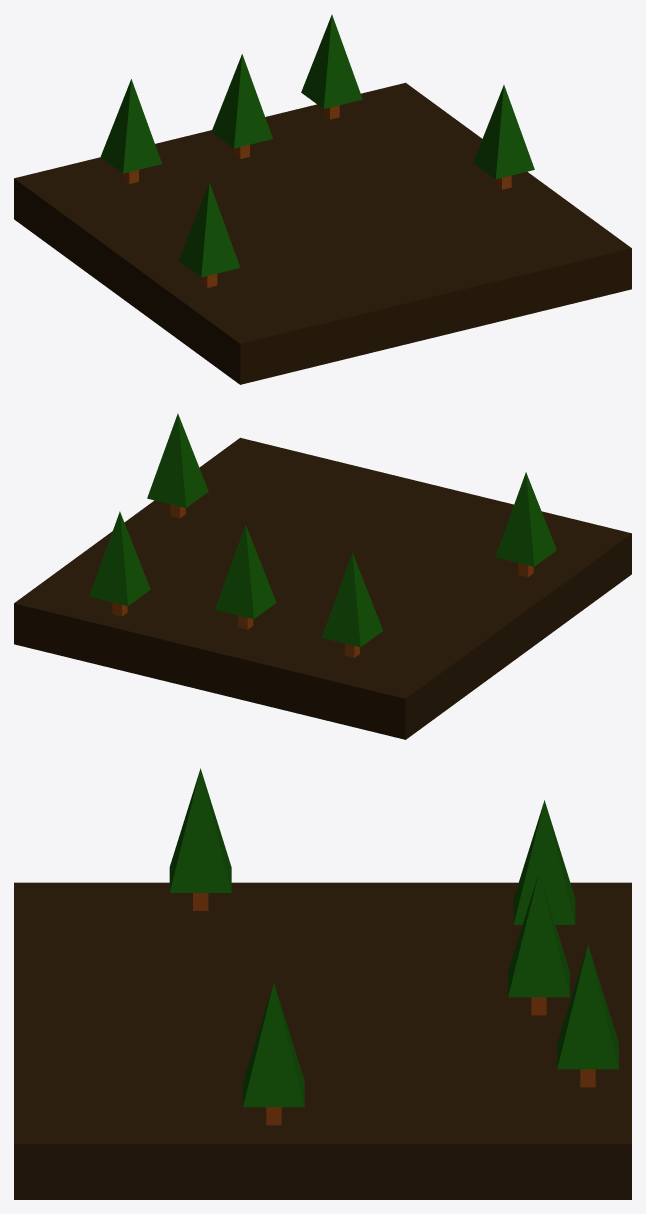
Rendered from Forest1.obj.
The picture shows the model from 3 angles, top to bottom: view 1: azimuth 30°, elevation 25°; view 2: azimuth 150°, elevation 25°; view 3: azimuth 270°, elevation 25°; orthographic projection. The views are drawn at different scales.
Visible parts, largest first — view 1: Tilebase147, Pyramid506, Pyramid501, Pyramid503, Pyramid505, Pyramid499; view 2: Tilebase147, Pyramid499, Pyramid501, Pyramid503, Pyramid505, Pyramid506; view 3: Tilebase147, Pyramid505, Pyramid503, Pyramid499, Pyramid506, Pyramid501.
Boxes of the visible parts, x1,y1,x2,y2 form: Tilebase147: (14,82,631,384); Pyramid506: (178,183,240,277); Pyramid501: (100,79,161,173); Pyramid503: (473,85,534,179); Pyramid505: (301,14,362,108); Pyramid499: (211,54,272,148); Tilebase147: (14,437,631,739); Pyramid499: (215,524,276,619); Pyramid501: (321,553,383,647); Pyramid503: (147,413,208,507); Pyramid505: (89,511,150,605); Pyramid506: (495,472,556,566); Tilebase147: (14,882,631,1199); Pyramid505: (557,944,618,1069); Pyramid503: (243,982,304,1107); Pyramid499: (508,873,569,997); Pyramid506: (169,768,231,892); Pyramid501: (513,800,575,924).
Size of the model in its own units: 10 by 3.5 by 10.
